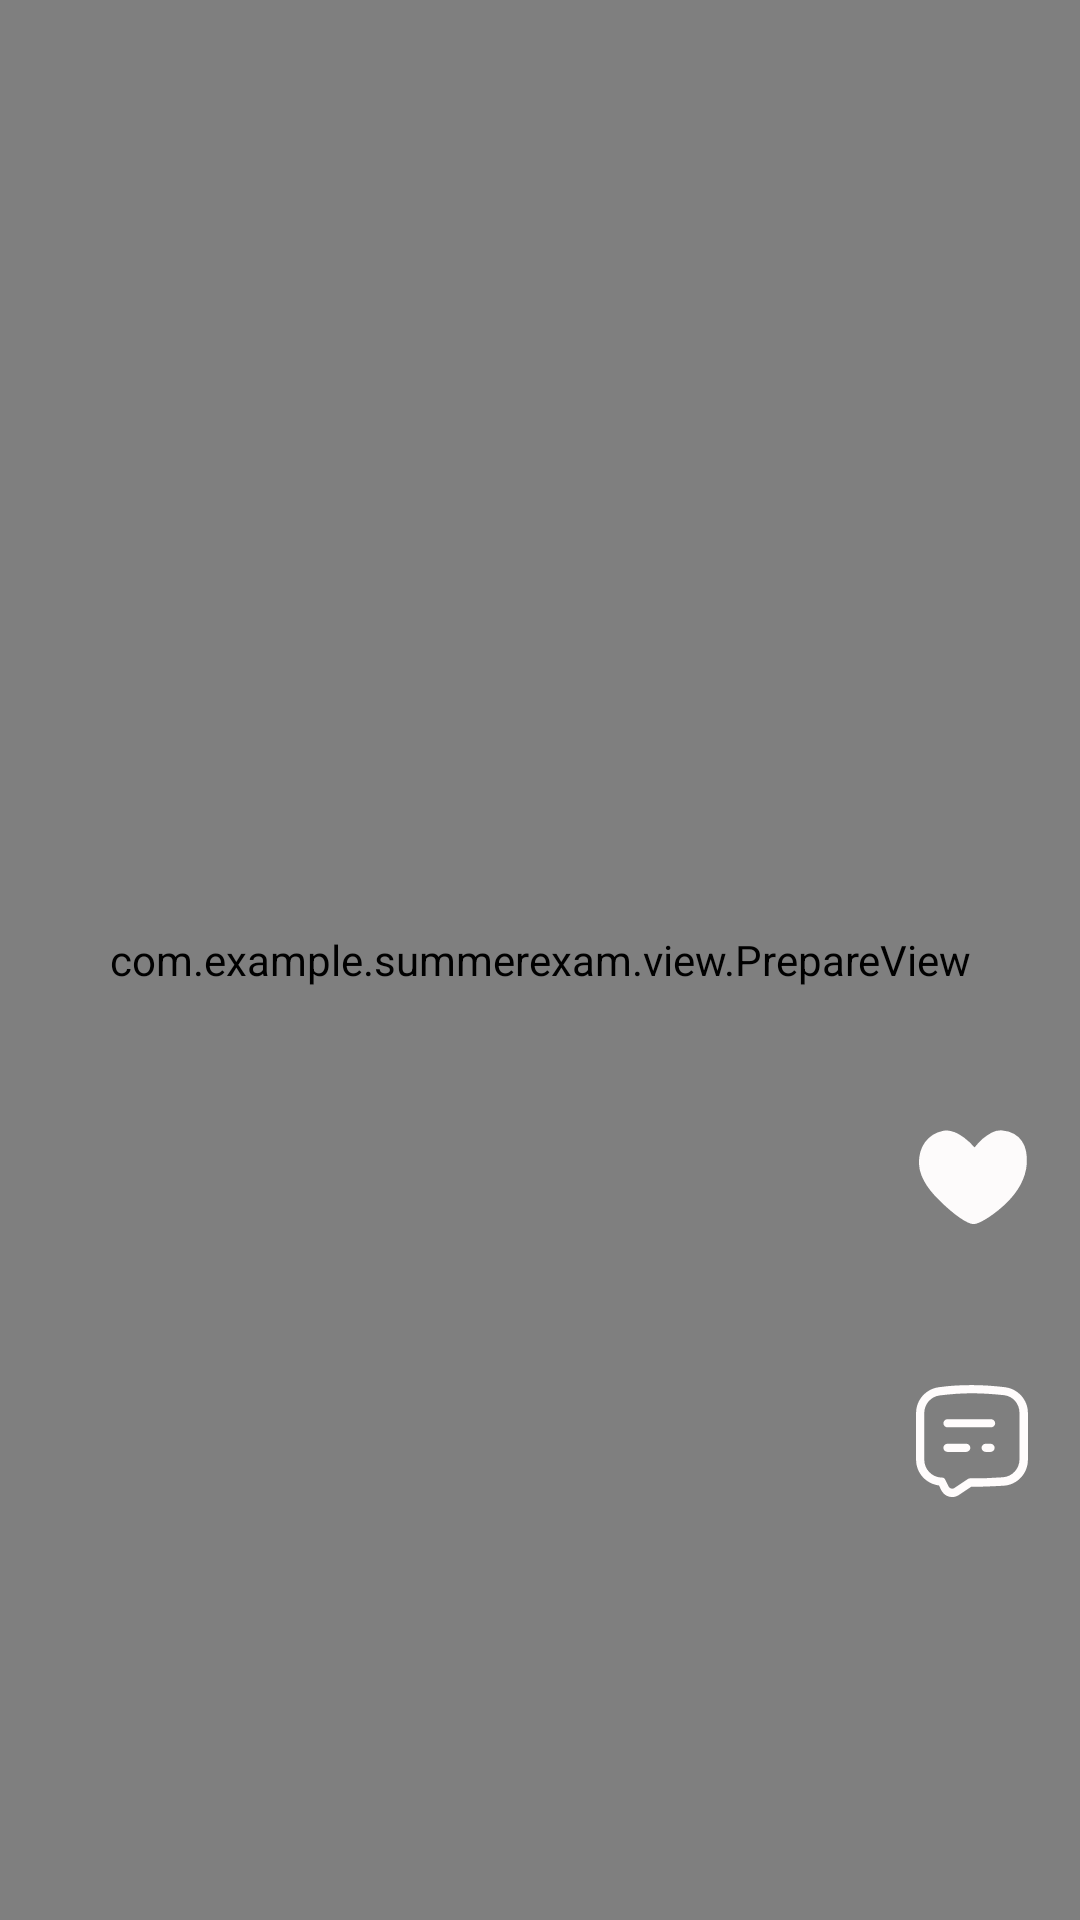

Named icons in this screenshot (1080*1920) and their centers, (x,y):
comment: (972,1441)
love: (973,1177)
